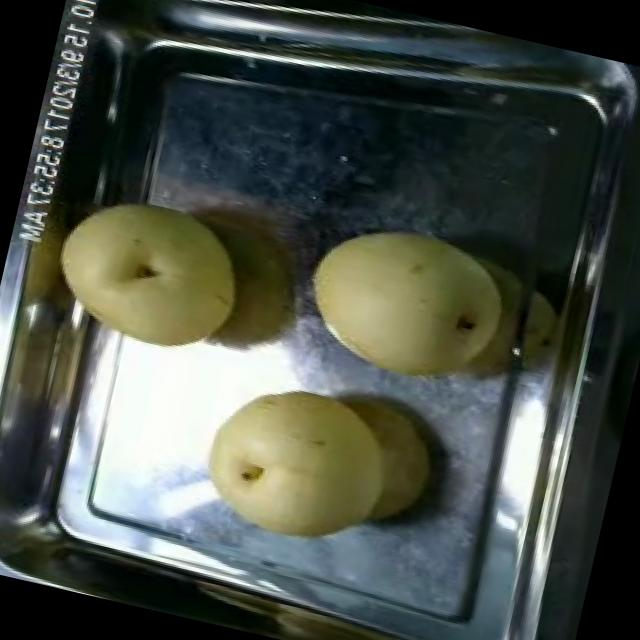Fruit: (180, 346, 456, 576), (282, 197, 533, 414), (36, 172, 265, 372)
